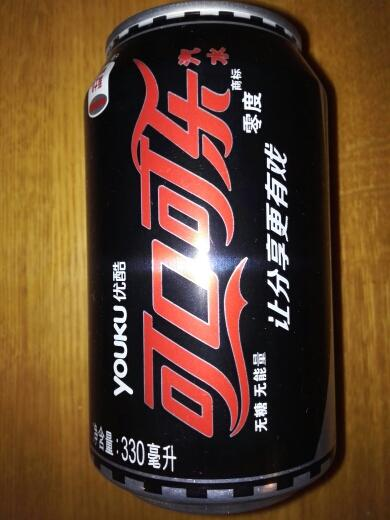coke_zero: (80, 2, 347, 511)
